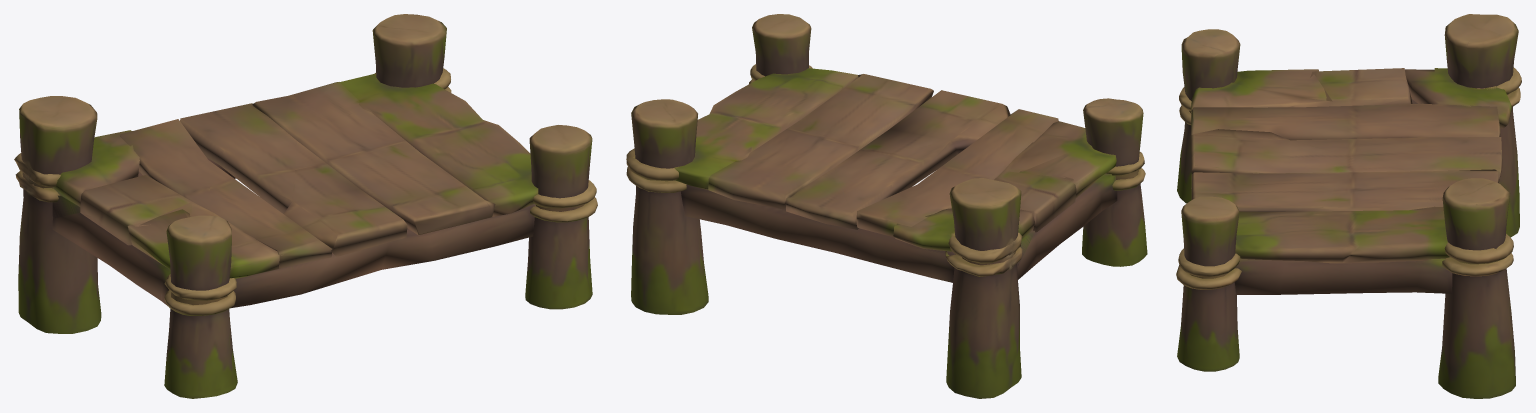
The model's file is pasarela_recta.glb.
3 renders of one model, left to right at view 1: azimuth 30°, elevation 25°; view 2: azimuth 150°, elevation 25°; view 3: azimuth 270°, elevation 25°, orthographic. The views are drawn at different scales.
Visible parts, largest first — view 1: pasarela_recta; view 2: pasarela_recta; view 3: pasarela_recta.
Boxes of the visible parts, x1=… form: pasarela_recta: x1=14, y1=14, x2=597, y2=398; pasarela_recta: x1=626, y1=14, x2=1147, y2=398; pasarela_recta: x1=1176, y1=14, x2=1521, y2=398.
Bounding box in the file's own units: 0.446 × 0.2112 × 0.3306.
Materials: 1 (1 with a texture image).
